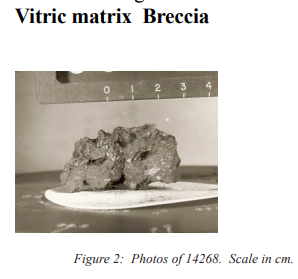Breccia: (56, 117, 194, 192)
